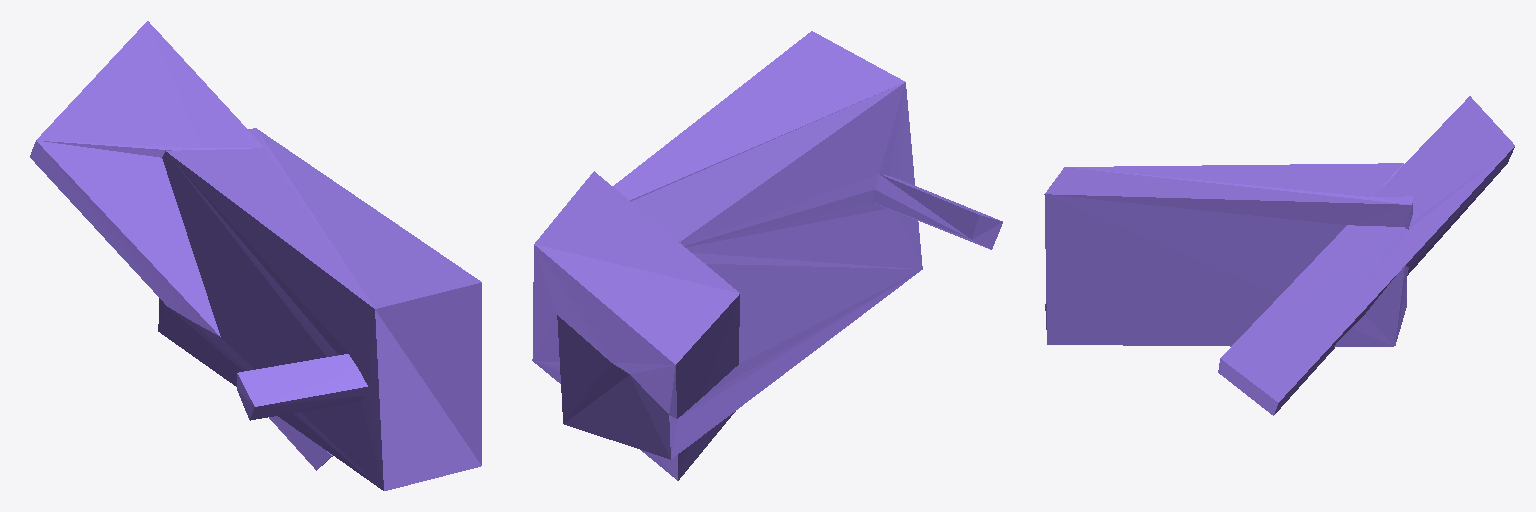
URDF robot description (blob917):

<robot name="blob917">
  <link name="random_obj_917">
    <contact>
      <lateral_friction value="1.0"/>
      <rolling_friction value="0.0"/>
      <inertia_scaling value="3.0"/>
      <contact_cfm value="0.0"/>
      <contact_erp value="1.0"/>
    </contact>
    <inertial>
      <origin rpy="0 0 0" xyz="0 0 0"/>
      <mass value="0.0895"/>
      <inertia ixx="1" ixy="0" ixz="0" iyy="1" iyz="0" izz="0"/>
    </inertial>
    <visual>
      <origin rpy="0 0 0" xyz="0 0 0"/>
      <geometry>
        <mesh filename="917.obj" scale="0.0095 0.0095 0.0095"/>
      </geometry>
      <material name="blockmat">
        <color rgba="0.63 0.52 0.94 1"/>
      </material>
    </visual>
    <collision>
      <origin rpy="0 0 0" xyz="0 0 0"/>
      <geometry>
        <mesh filename="917_coll.obj" scale="0.0095 0.0095 0.0095"/>
      </geometry>
    </collision>
  </link>
</robot>

--- Render facts (derived) ---
The picture shows the robot from 3 angles, left to right: view 1: azimuth 30°, elevation 25°; view 2: azimuth 150°, elevation 25°; view 3: azimuth 270°, elevation 25°; orthographic projection.
Model blob917 with 1 links and 0 joints (none), rooted at random_obj_917, posed every joint at zero.
Visible links, largest first — view 1: random_obj_917; view 2: random_obj_917; view 3: random_obj_917.
Link boxes in pixels (x1,y1,x2,y2): random_obj_917: (30,21,481,490); random_obj_917: (532,31,1002,480); random_obj_917: (1044,96,1514,415).
Size in the robot's own frame: 0.0899 by 0.1518 by 0.1073 metres.
Meshes: 1 distinct files referenced, 1 mesh visuals loaded (1 OBJ).
